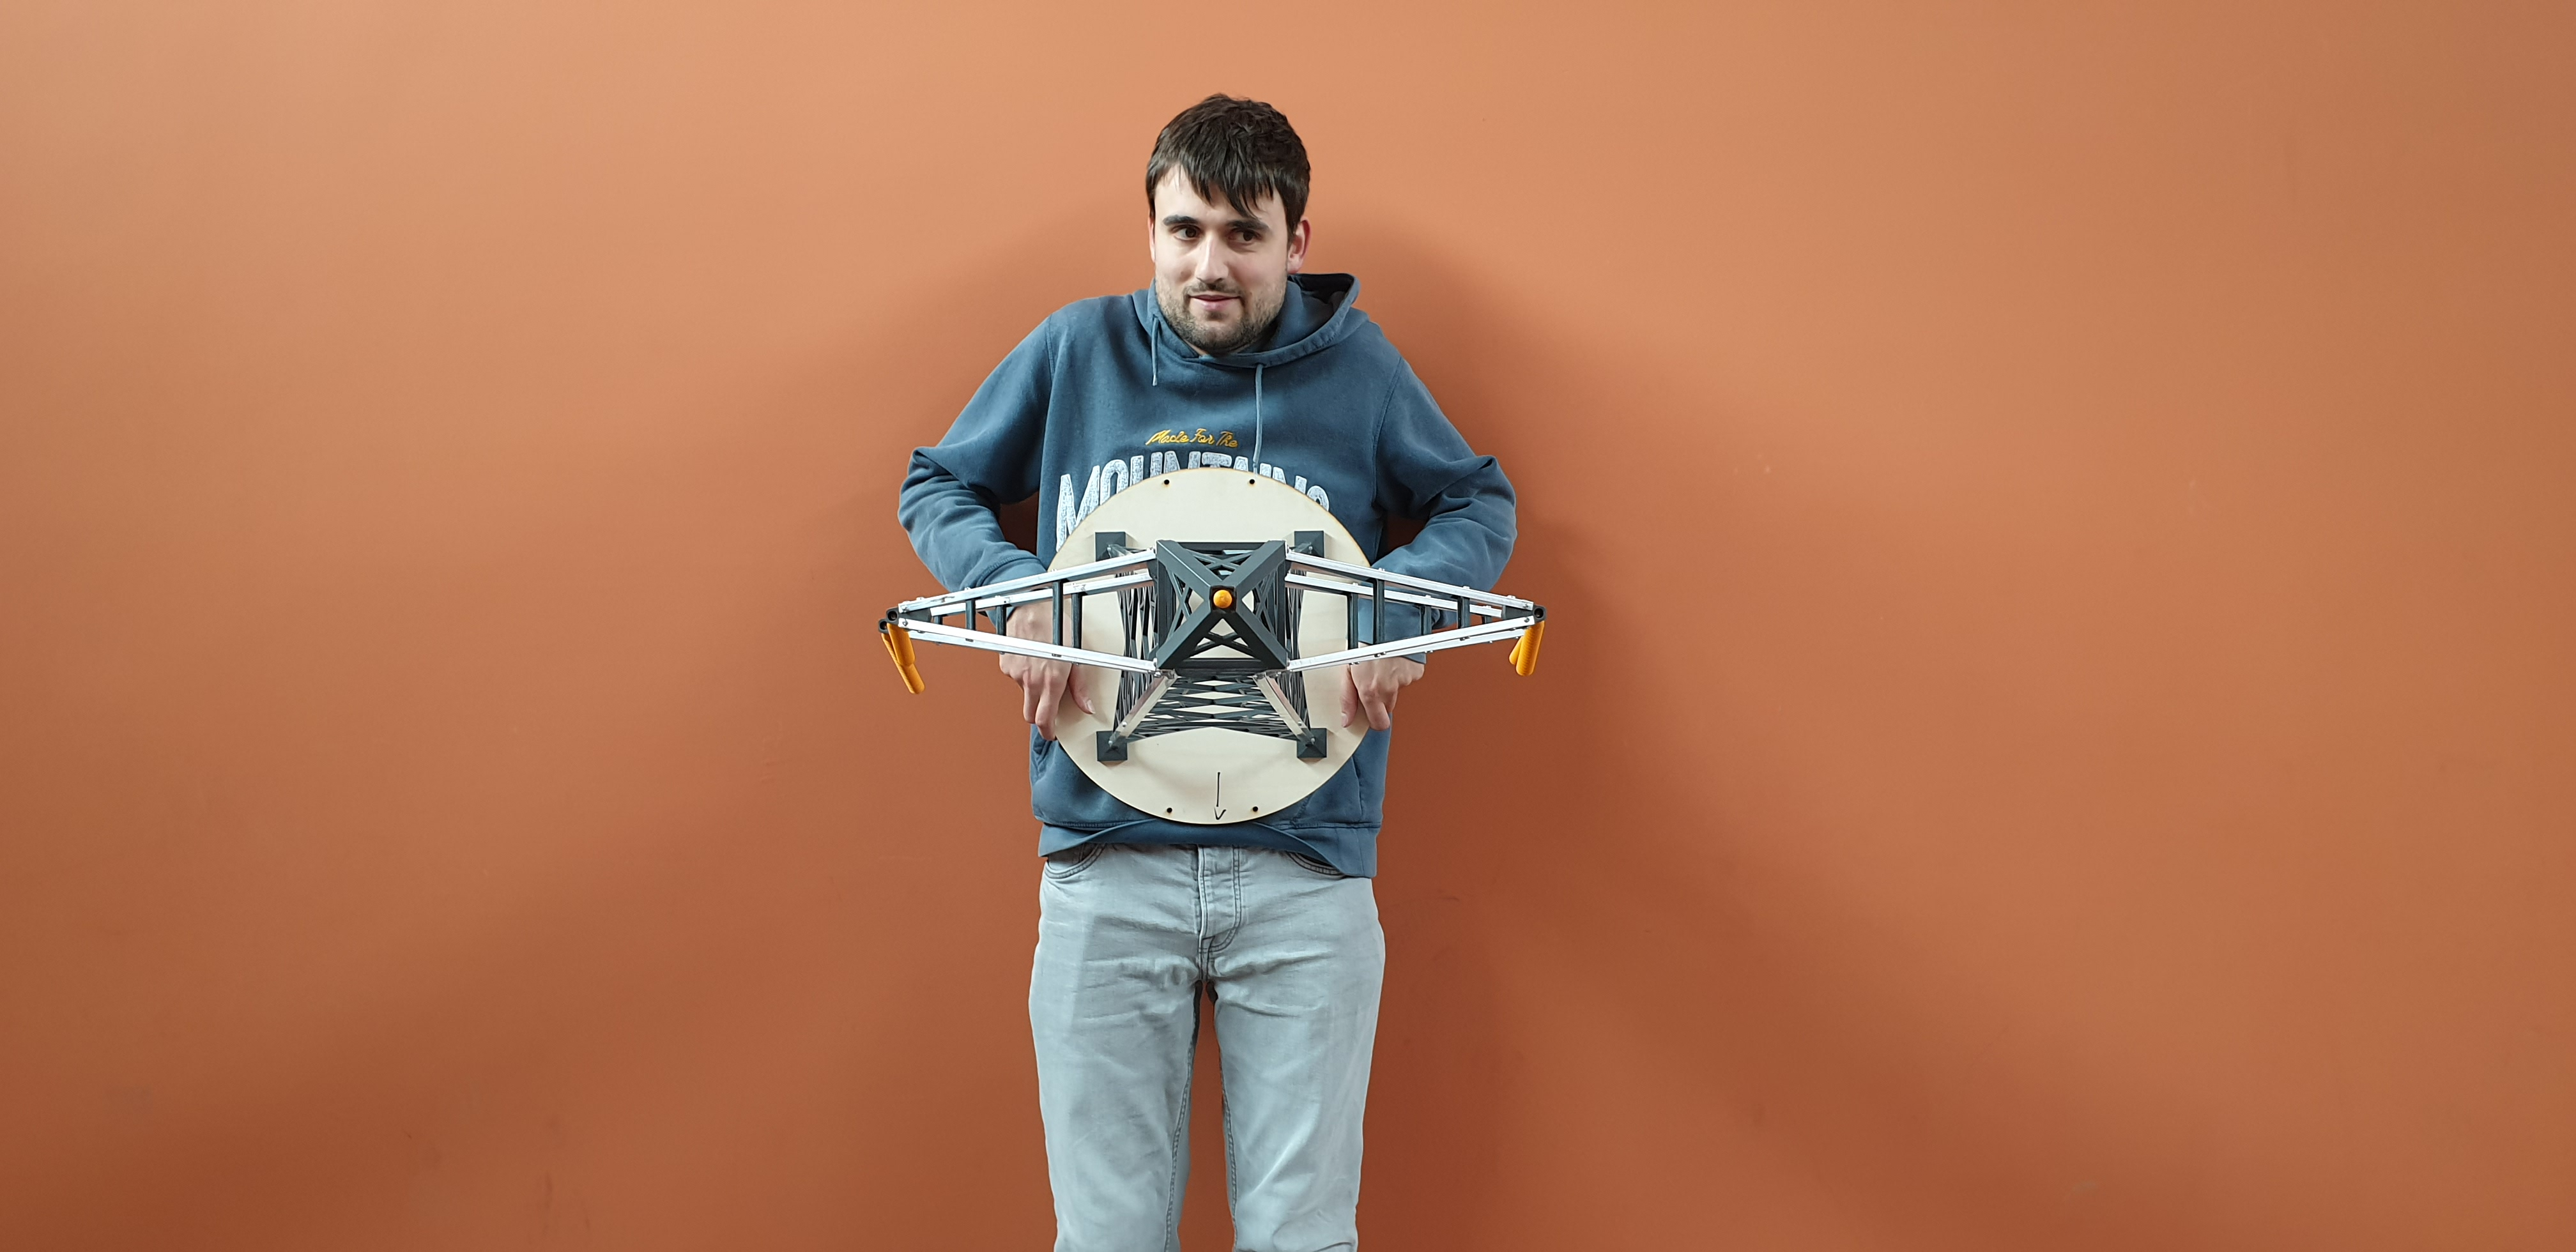pylon_phy: (885, 537, 1549, 687)
